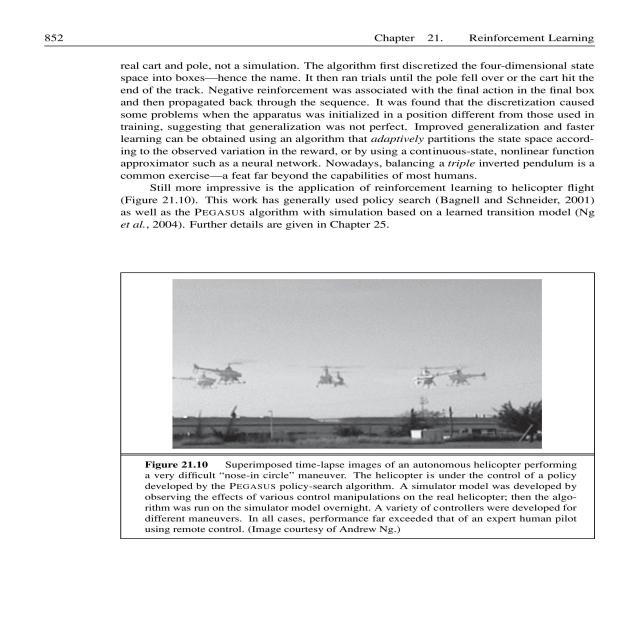diagram: (93, 251, 587, 545)
